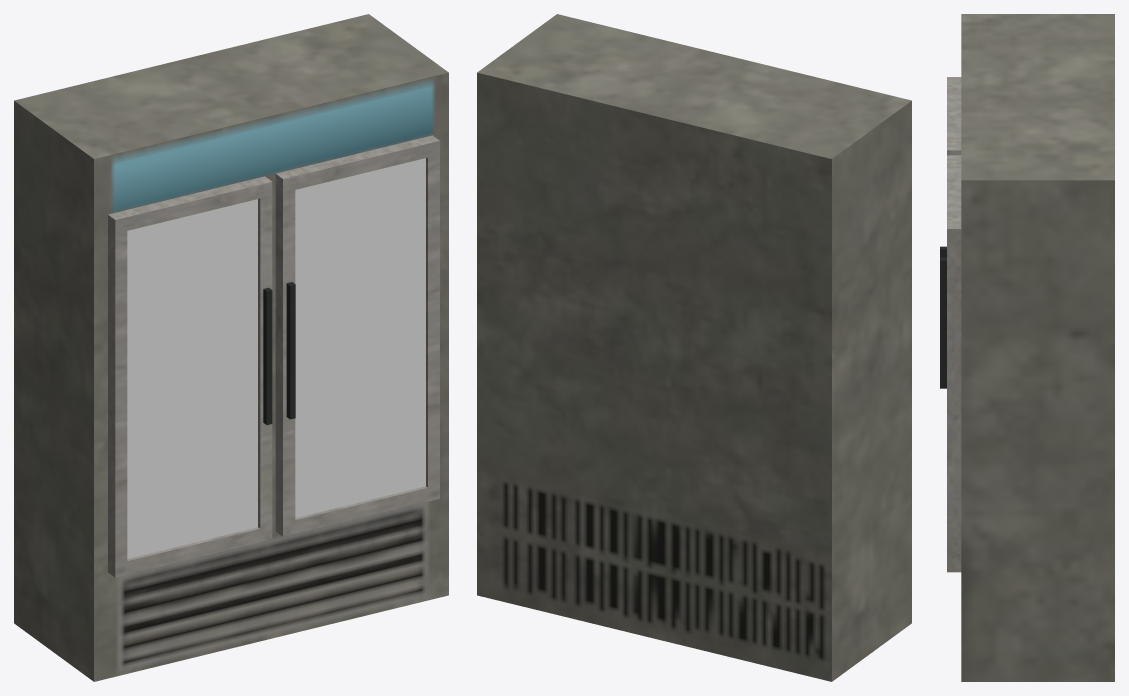
File: Refrigerator.glb
3 renders of one model, left to right at view 1: azimuth 30°, elevation 25°; view 2: azimuth 150°, elevation 25°; view 3: azimuth 270°, elevation 25°, orthographic. The views are drawn at different scales.
Visible parts, largest first — view 1: Refrigerator; view 2: Refrigerator; view 3: Refrigerator.
Part boxes in pixels (x1,y1,x2,y2): Refrigerator: [14, 14, 448, 681]; Refrigerator: [477, 14, 911, 681]; Refrigerator: [940, 14, 1114, 681].
Bounding box in the file's own units: 2.18 × 3.07 × 0.9707.
2 materials, 1 textured.
